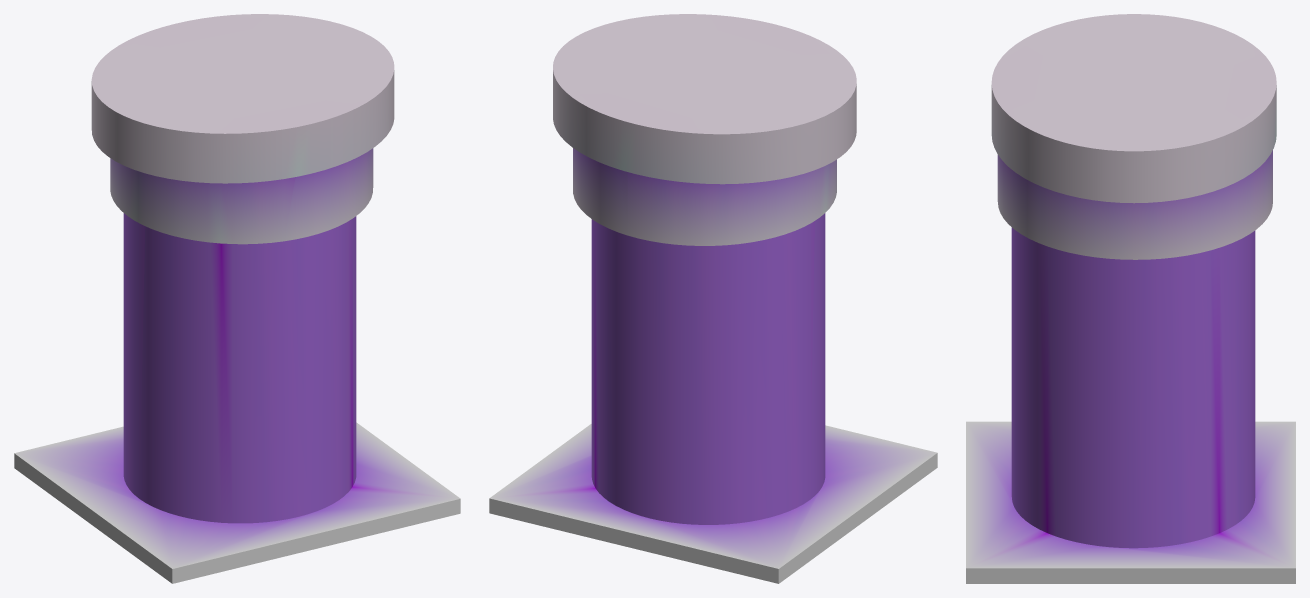
3 renders of one model, left to right at view 1: azimuth 30°, elevation 25°; view 2: azimuth 150°, elevation 25°; view 3: azimuth 270°, elevation 25°, orthographic. The views are drawn at different scales.
Parts seen in each view (by area): view 1: base; view 2: base; view 3: base.
Part boxes in pixels (left/top/right/bottom): base: left=14, top=14, right=460, bottom=583; base: left=489, top=14, right=937, bottom=583; base: left=966, top=14, right=1295, bottom=583.
Size of the model in its own units: 1.09 by 1.5 by 1.04.
